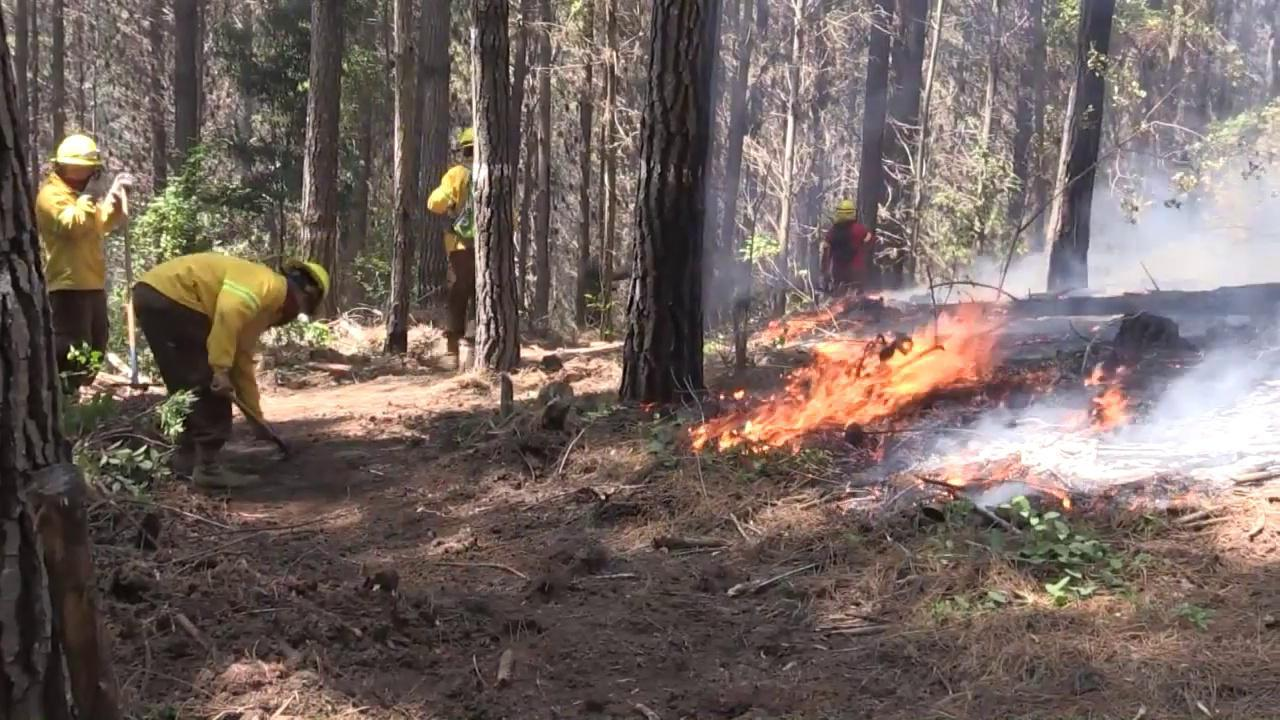Fire: (683, 297, 1012, 454), (930, 465, 1079, 509), (759, 299, 853, 348), (1092, 384, 1141, 436)
